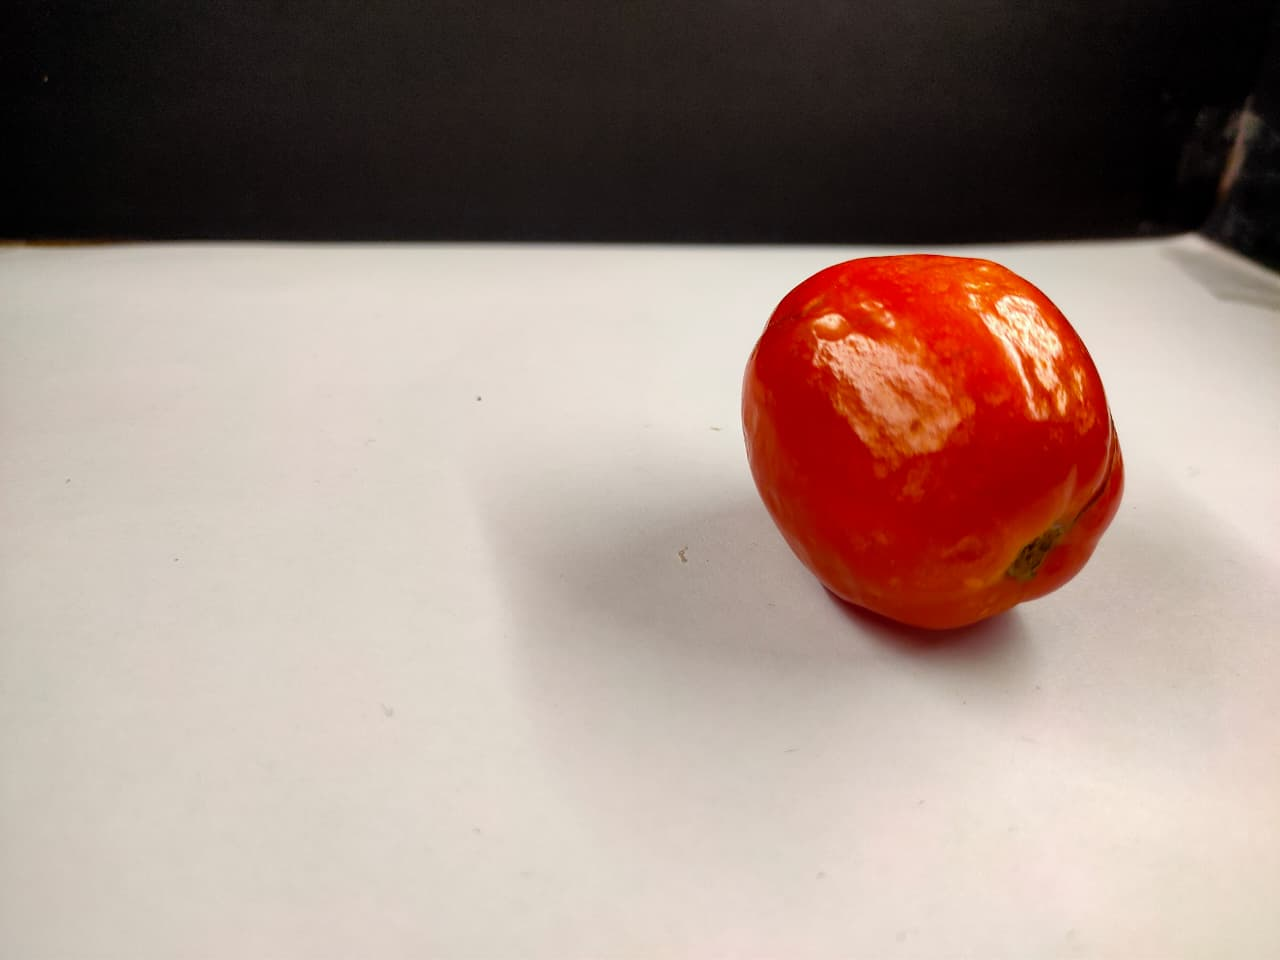damaged: (711, 246, 1138, 655)
